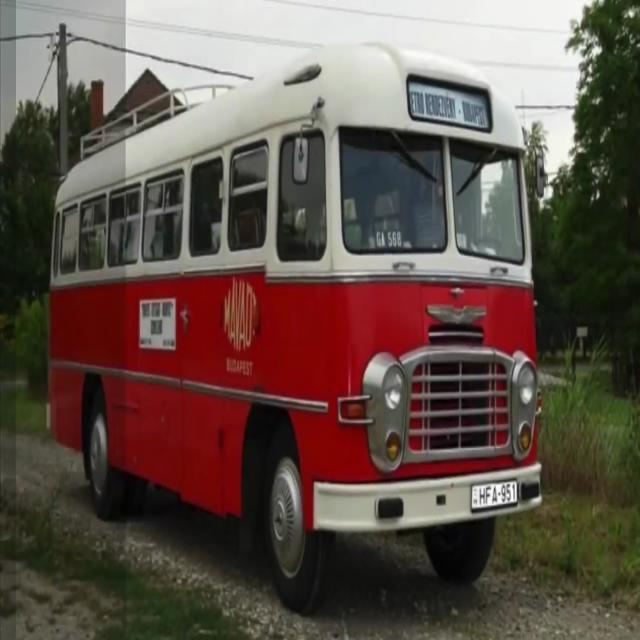bus: (45, 40, 548, 609)
